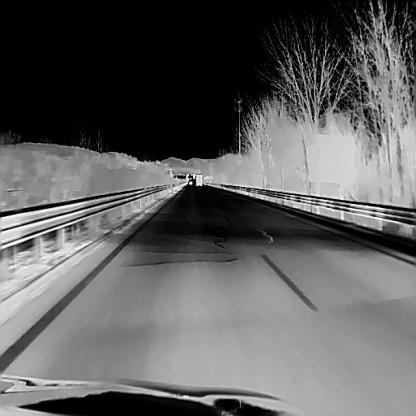truck: (195, 172, 201, 186)
